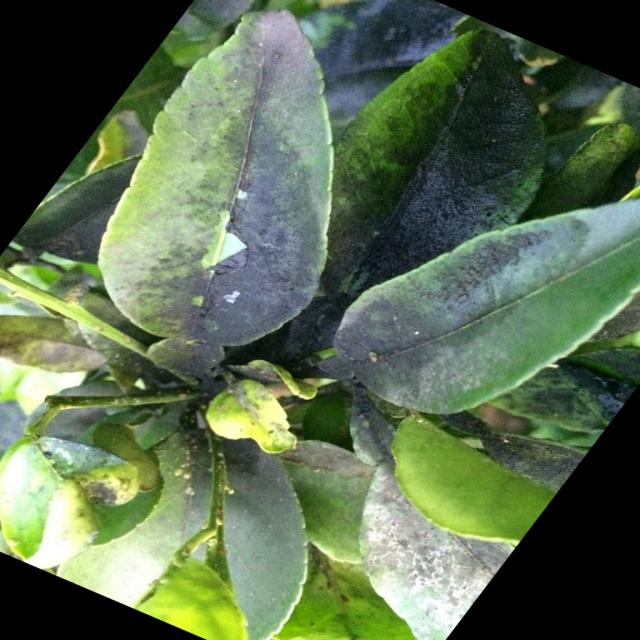Sooty Mold: (1, 7, 636, 638)
